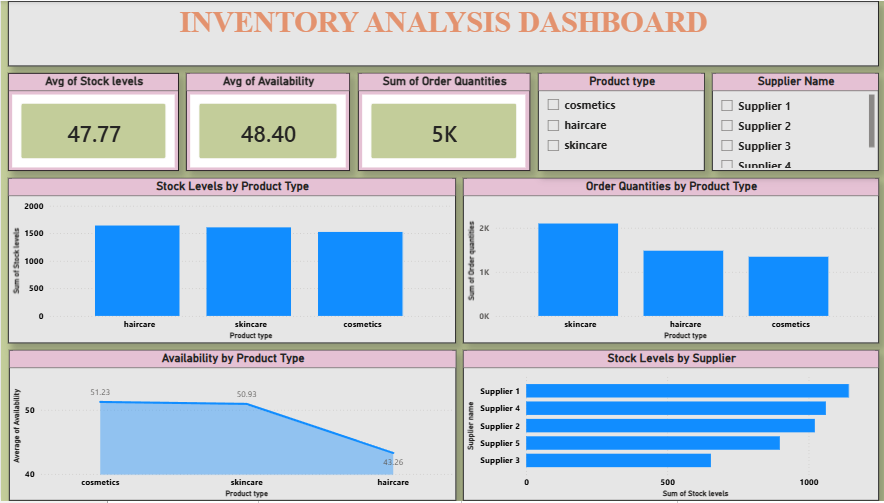

The dashboard page shown, as its layout file describes it:
{"tool":"powerbi","page":{"name":"Inventory Analysis Dashboard ","canvas":[1280,720],"ordinal":1},"visuals":[{"type":"textbox","box":[10.2,0,1254.1,93.7],"z":0},{"type":"cardVisual","title":"Avg of Stock levels ","fields":{"Data":["Avg(project_supply_chain_data supply_chain_data.Stock levels)"]},"box":[10.1,103.7,246.2,141.1],"z":1000},{"type":"cardVisual","title":"Avg of Availability","fields":{"Data":["Avg(project_supply_chain_data supply_chain_data.Availability)"]},"box":[266.4,103.7,236.2,141.1],"z":2000},{"type":"cardVisual","title":"Sum of Order Quantities ","fields":{"Data":["Sum(project_supply_chain_data supply_chain_data.Order quantities)"]},"box":[514.1,103.7,247.7,141.1],"z":3000},{"type":"columnChart","title":"Stock Levels by Product Type","fields":{"Category":["project_supply_chain_data supply_chain_data.Product type"],"Y":["Sum(project_supply_chain_data supply_chain_data.Stock levels)"]},"box":[10.1,254.9,645.1,237.6],"z":4000},{"type":"areaChart","title":"Availability by Product Type","fields":{"Category":["project_supply_chain_data supply_chain_data.Product type"],"Y":["Avg(project_supply_chain_data supply_chain_data.Availability)"]},"box":[11.5,502.6,643.7,217.4],"z":5000},{"type":"columnChart","title":"Order Quantities by Product Type","fields":{"Category":["project_supply_chain_data supply_chain_data.Product type"],"Y":["Sum(project_supply_chain_data supply_chain_data.Order quantities)"]},"box":[665.3,254.9,599,237.6],"z":6000},{"type":"clusteredBarChart","title":"Stock Levels by Supplier","fields":{"Category":["project_supply_chain_data supply_chain_data.Supplier name"],"Y":["Sum(project_supply_chain_data supply_chain_data.Stock levels)"]},"box":[665.3,502.6,599,217.4],"z":7000},{"type":"slicer","title":"Product type","fields":{"Values":["project_supply_chain_data supply_chain_data.Product type"]},"box":[773.3,103.7,240.5,141.1],"z":8000},{"type":"slicer","title":"Supplier Name","fields":{"Values":["project_supply_chain_data supply_chain_data.Supplier name"]},"box":[1023.8,103.7,240.5,141.1],"z":9000}]}

Visuals, with their boxes in screenshot pixels (x1, y1, x2, y2), scaled from the page's 1280x720 canvas onto the 884x503 screenshot:
textbox: l=7, t=0, r=873, b=65
"Avg of Stock levels " cardVisual: l=7, t=72, r=177, b=171
"Avg of Availability" cardVisual: l=184, t=72, r=347, b=171
"Sum of Order Quantities " cardVisual: l=355, t=72, r=526, b=171
"Stock Levels by Product Type" columnChart: l=7, t=178, r=452, b=344
"Availability by Product Type" areaChart: l=8, t=351, r=452, b=502
"Order Quantities by Product Type" columnChart: l=459, t=178, r=873, b=344
"Stock Levels by Supplier" clusteredBarChart: l=459, t=351, r=873, b=502
"Product type" slicer: l=534, t=72, r=700, b=171
"Supplier Name" slicer: l=707, t=72, r=873, b=171
